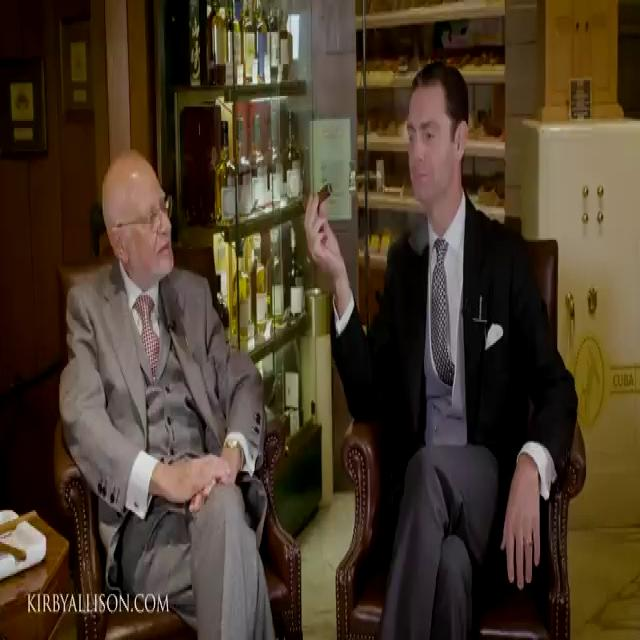Smooking: (312, 166, 338, 218)
